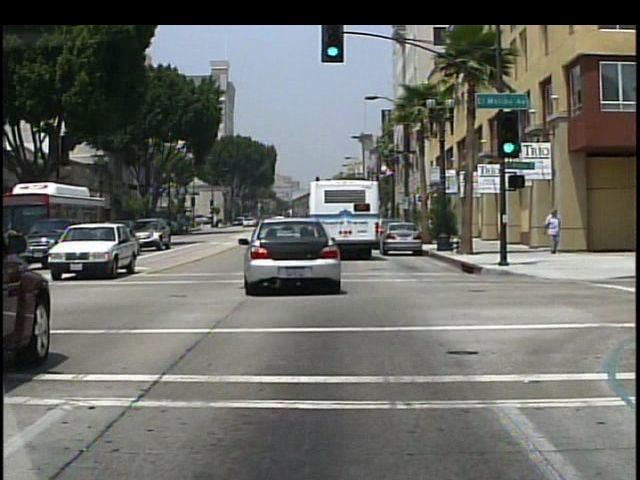person: (543, 208, 562, 255)
